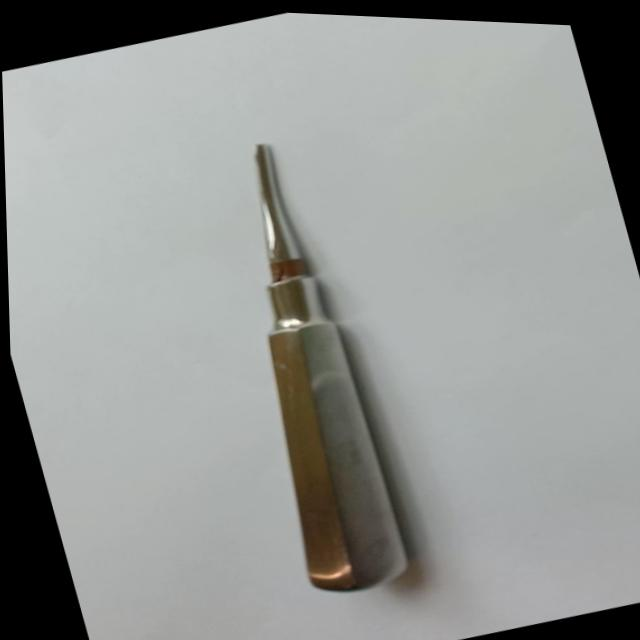Coupland1: (185, 126, 422, 605)
